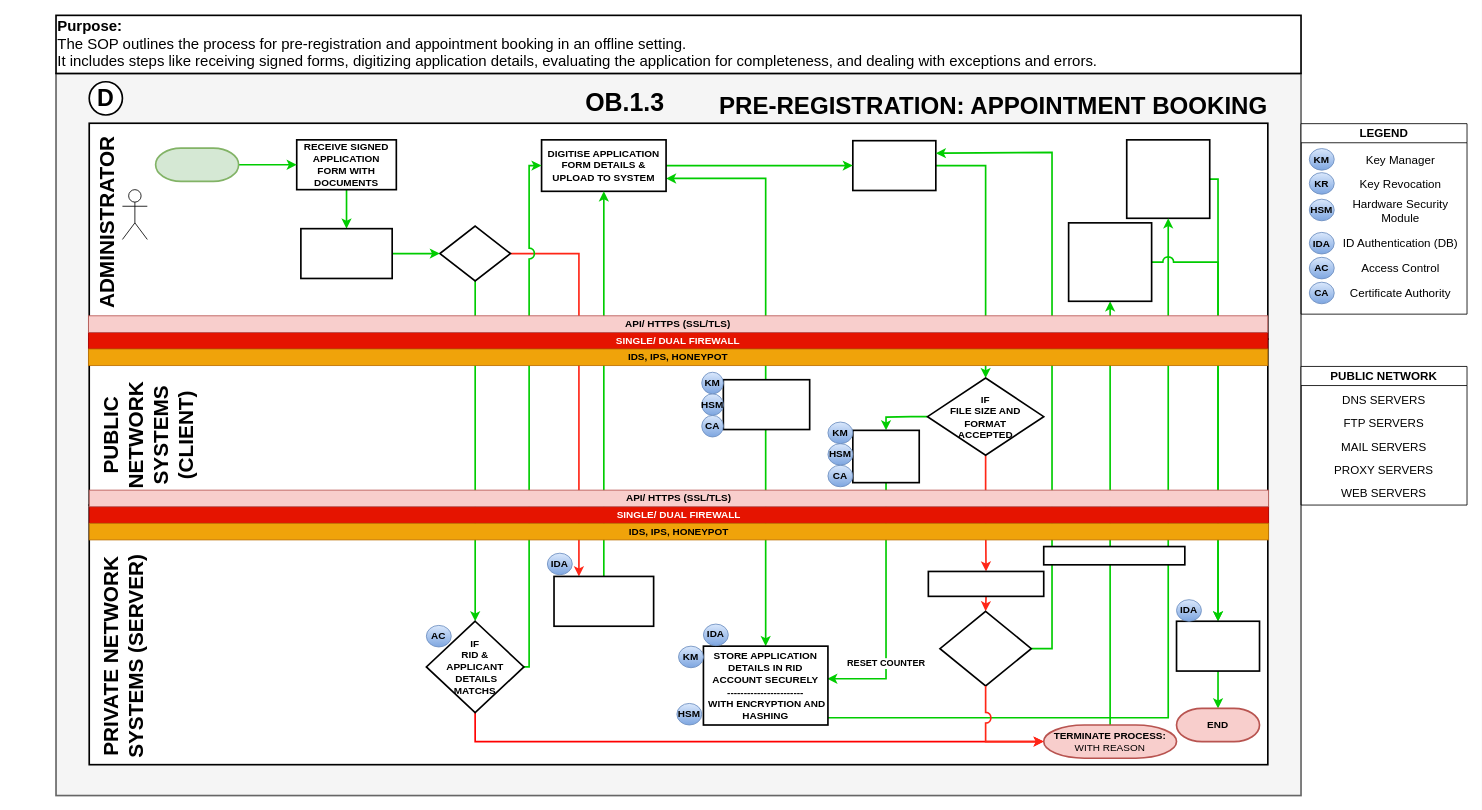
Image size: 1482x810. Some labels were removed from this diagram. Each missing label, with the centre of its shape:
ADMIN: [134,214]
EVALUATE APPLICATION FORM FOR COMPLETENESS: [346,253]
EXCEPTION AND ERROR HANDLING (COUNTER): [985,583]
GENERATE NEW RID FOR THE APPLICANT: [603,601]
IF RETRY COUNT <=3: [985,648]
IF RID EXISTS: [475,253]
LOGS THE PROCESS AND STATUS: [1217,645]
MASK & ENCRYPT APPLICATION DETAILS: [766,404]
MASK & ENCRYPT SCAN FILE: [886,456]
NOTIFICATION GENERATOR: [1113,555]
PRINTS ACKNOWLEDG-EMENT WITH REJECTED APPLICATION: [1109,262]
PRINTS ACKNOWLEDG-EMENT WITH RID FOR APPOINTMENT BOOKING: [1167,179]
SCAN PHOTOCOPY OF SUPPORTING DOCUMENTS: [894,165]
START (OFFLINE): [196,164]
